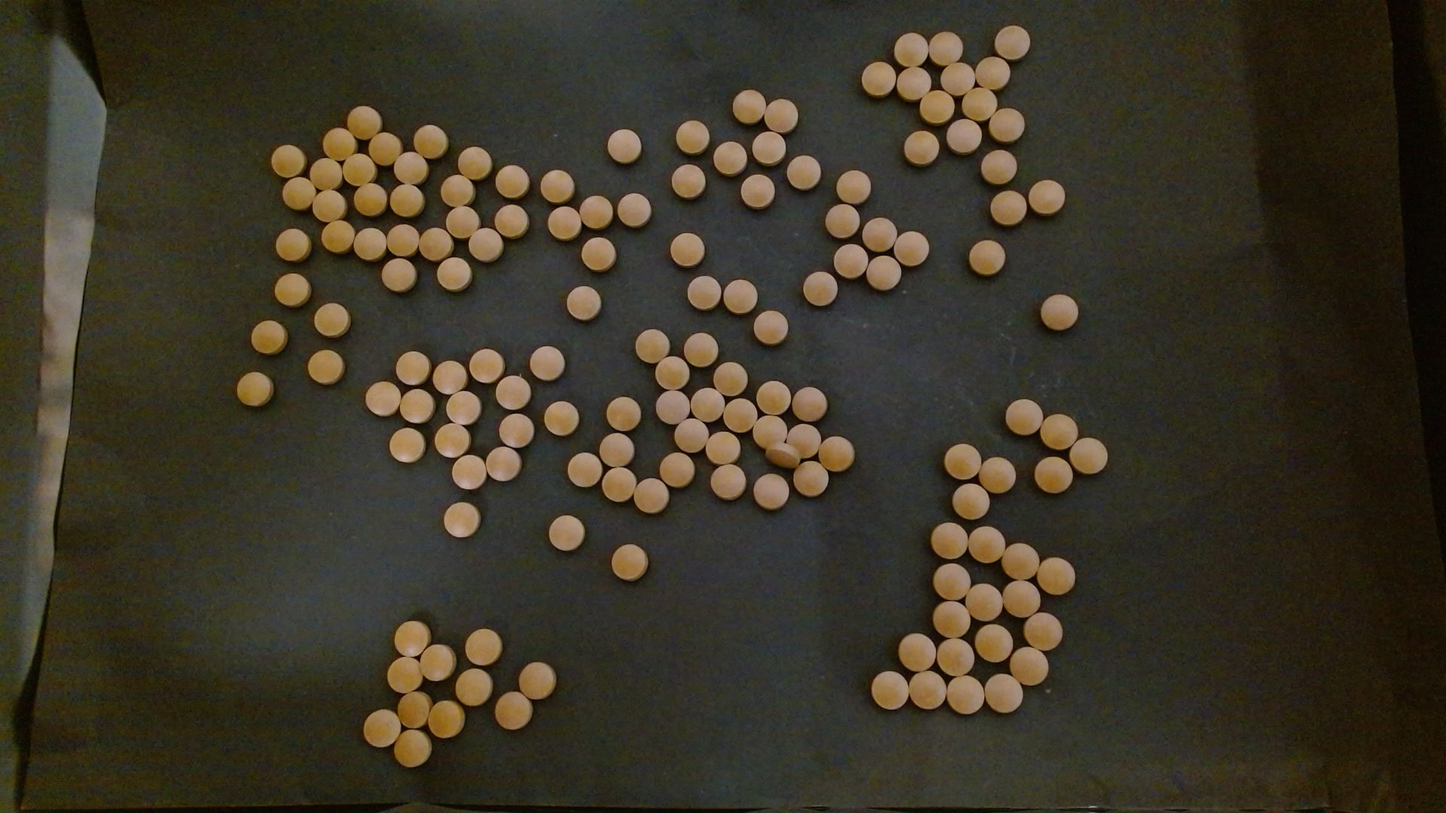Circle: (1038, 293, 1080, 333), (234, 370, 276, 409), (1036, 556, 1076, 595), (1023, 611, 1063, 650), (1009, 647, 1049, 686), (871, 670, 910, 710), (984, 673, 1023, 713), (517, 660, 556, 699), (1005, 397, 1044, 436), (897, 632, 936, 671), (932, 599, 971, 638), (362, 709, 401, 748), (393, 728, 432, 767), (494, 691, 532, 731), (908, 670, 946, 710), (1068, 437, 1107, 475), (932, 562, 971, 600), (975, 623, 1013, 662), (947, 674, 984, 714), (944, 442, 982, 480), (455, 668, 493, 706), (931, 521, 969, 559), (1001, 542, 1039, 580), (936, 638, 974, 676), (1033, 456, 1072, 493), (1039, 413, 1078, 450), (951, 482, 990, 519), (428, 699, 465, 738), (1027, 178, 1065, 215), (611, 543, 648, 581), (393, 620, 430, 658), (386, 655, 423, 693), (969, 524, 1006, 562), (1002, 579, 1039, 617), (969, 239, 1006, 276), (752, 473, 789, 510), (979, 456, 1016, 493), (465, 629, 502, 666), (450, 454, 487, 491), (792, 460, 829, 497), (633, 477, 670, 514), (434, 422, 471, 459), (495, 374, 532, 411), (965, 583, 1002, 620), (388, 427, 426, 463), (548, 514, 584, 552), (250, 319, 288, 355), (273, 272, 311, 308), (442, 501, 480, 537), (419, 643, 455, 681), (753, 309, 789, 346), (990, 189, 1027, 225), (903, 129, 939, 166), (307, 349, 344, 385), (892, 230, 929, 266), (313, 302, 350, 338), (710, 463, 746, 500), (919, 88, 956, 124), (791, 385, 827, 422), (892, 32, 929, 68), (993, 24, 1030, 60), (634, 327, 670, 364), (654, 389, 691, 425), (412, 123, 448, 160), (345, 104, 381, 141), (981, 148, 1017, 184), (988, 106, 1024, 142), (529, 344, 565, 380), (832, 242, 868, 278), (380, 257, 416, 293), (606, 128, 642, 164), (542, 400, 578, 436), (365, 380, 401, 416), (599, 431, 635, 467), (673, 417, 709, 453), (457, 145, 493, 181), (435, 256, 472, 291), (485, 446, 520, 483), (861, 60, 896, 97), (581, 236, 616, 272), (740, 173, 775, 209), (722, 279, 757, 315), (818, 435, 854, 470), (674, 118, 709, 154), (616, 192, 652, 227), (274, 227, 310, 262), (566, 285, 601, 321), (601, 467, 636, 503), (945, 117, 980, 153), (567, 452, 602, 488), (399, 388, 435, 423), (498, 413, 534, 448), (395, 350, 431, 385), (671, 163, 706, 199), (975, 55, 1011, 90), (606, 395, 641, 431), (468, 349, 504, 384), (659, 452, 695, 487), (654, 355, 690, 390), (270, 142, 305, 178), (755, 379, 790, 415), (896, 65, 931, 101), (432, 359, 468, 394), (493, 203, 528, 239), (392, 150, 428, 185), (397, 691, 431, 728), (802, 271, 837, 306), (866, 255, 901, 290), (468, 227, 503, 262), (683, 332, 718, 367), (940, 61, 975, 96), (494, 164, 529, 199), (445, 390, 480, 425), (712, 361, 747, 396), (389, 182, 424, 217), (281, 176, 316, 211), (752, 415, 787, 450), (670, 231, 704, 267), (835, 169, 871, 203), (752, 130, 786, 166), (786, 154, 820, 190), (731, 88, 765, 124), (368, 130, 402, 166), (961, 86, 996, 120), (862, 217, 897, 251), (825, 204, 859, 239), (540, 169, 575, 203), (712, 141, 747, 175), (579, 195, 613, 230), (547, 205, 581, 240), (928, 30, 962, 65), (321, 219, 355, 254), (312, 188, 346, 223), (353, 181, 387, 216), (440, 174, 475, 208), (309, 157, 343, 192), (690, 386, 725, 420), (687, 275, 721, 309), (764, 98, 798, 132), (352, 226, 386, 260), (322, 126, 356, 160), (342, 152, 376, 186), (705, 432, 740, 465), (419, 227, 453, 260), (787, 423, 821, 456), (723, 398, 756, 432), (446, 205, 478, 239), (387, 223, 419, 257), (766, 443, 801, 469)
